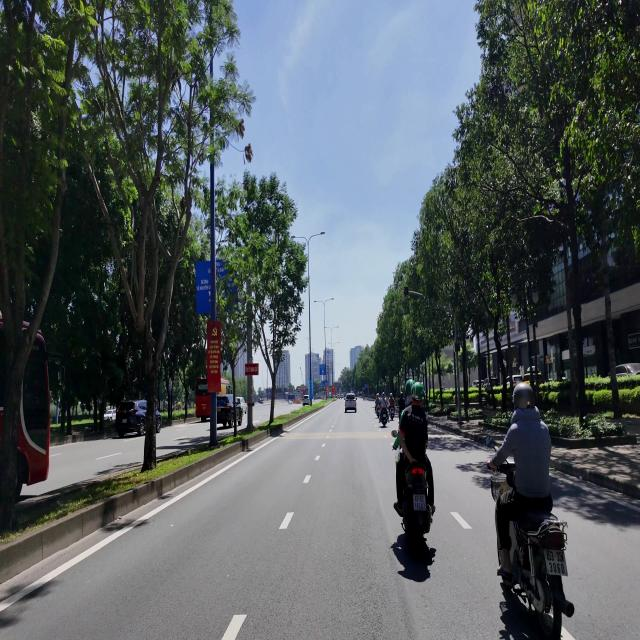car: (115, 400, 147, 437), (217, 395, 242, 428), (345, 393, 356, 412), (303, 395, 310, 405)
motorcycle: (503, 511, 574, 639), (403, 462, 432, 556), (380, 408, 388, 427), (390, 406, 394, 420)
